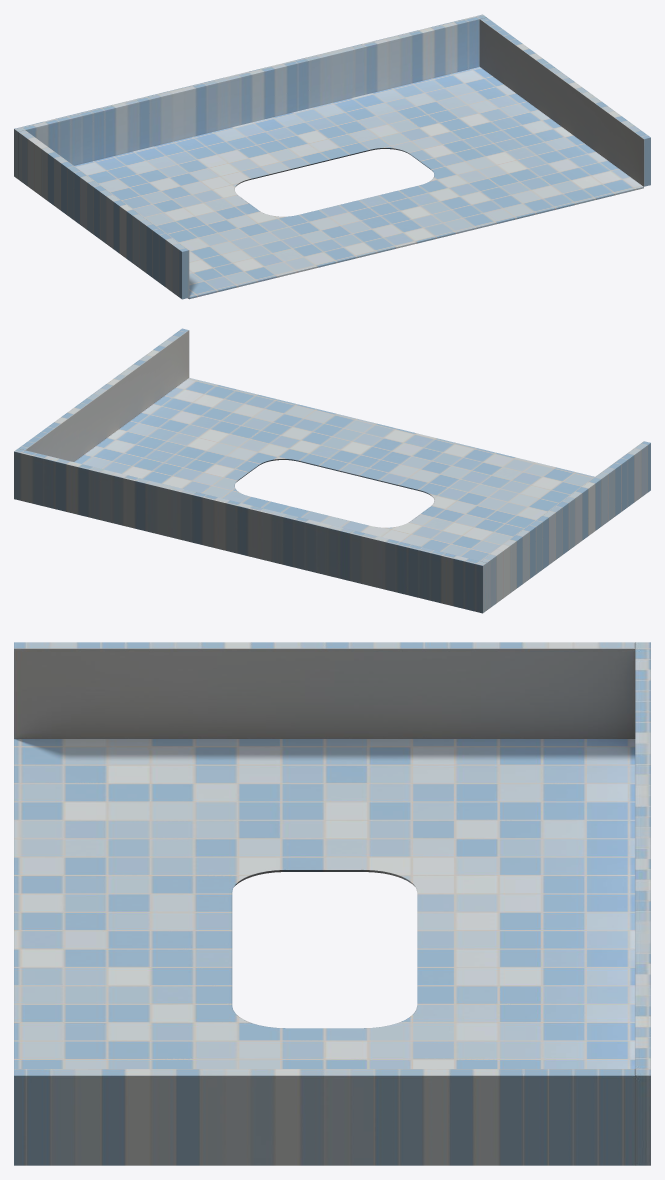
The picture shows the model from 3 angles, top to bottom: view 1: azimuth 30°, elevation 25°; view 2: azimuth 150°, elevation 25°; view 3: azimuth 270°, elevation 25°; orthographic projection. The views are drawn at different scales.
Visible parts, largest first — view 1: HORNEADO_suelo, HORNEADO_pared_fondo, HORNEADO_pared_izq, HORNEADO_pared_der; view 2: HORNEADO_suelo, HORNEADO_pared_fondo, HORNEADO_pared_izq, HORNEADO_pared_der; view 3: HORNEADO_suelo, HORNEADO_pared_der, HORNEADO_pared_izq, HORNEADO_pared_fondo.
Part boxes in pixels (box(x1,y1,x2,y2)): HORNEADO_suelo: box(74, 67, 643, 299); HORNEADO_pared_fondo: box(14, 14, 486, 178); HORNEADO_pared_izq: box(18, 130, 189, 299); HORNEADO_pared_der: box(480, 17, 650, 186); HORNEADO_suelo: box(74, 378, 594, 560); HORNEADO_pared_fondo: box(14, 448, 486, 613); HORNEADO_pared_izq: box(480, 441, 650, 609); HORNEADO_pared_der: box(18, 328, 189, 461); HORNEADO_suelo: box(14, 739, 635, 1068); HORNEADO_pared_der: box(14, 1069, 635, 1165); HORNEADO_pared_izq: box(14, 642, 635, 738); HORNEADO_pared_fondo: box(635, 642, 650, 1165).
Size of the model in its own units: 33 by 3.3 by 20.5.
4 materials, 4 textured.
